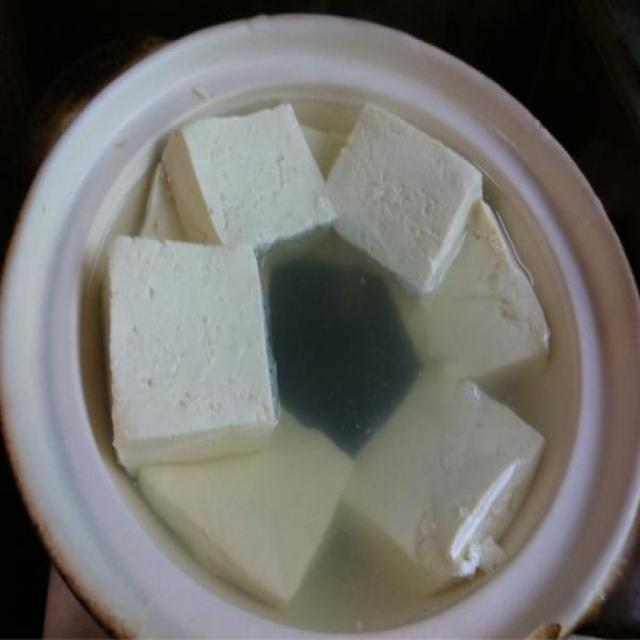豆腐料理: (53, 42, 586, 631)
